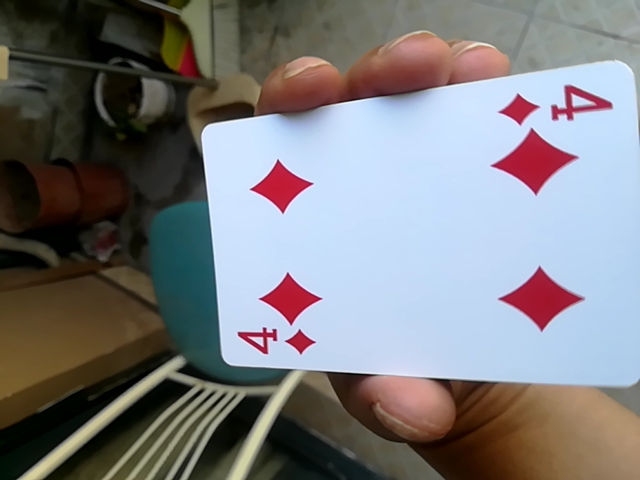fk 4: (185, 73, 640, 384)
